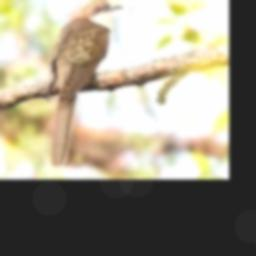Cuckoo: (49, 0, 124, 168)
